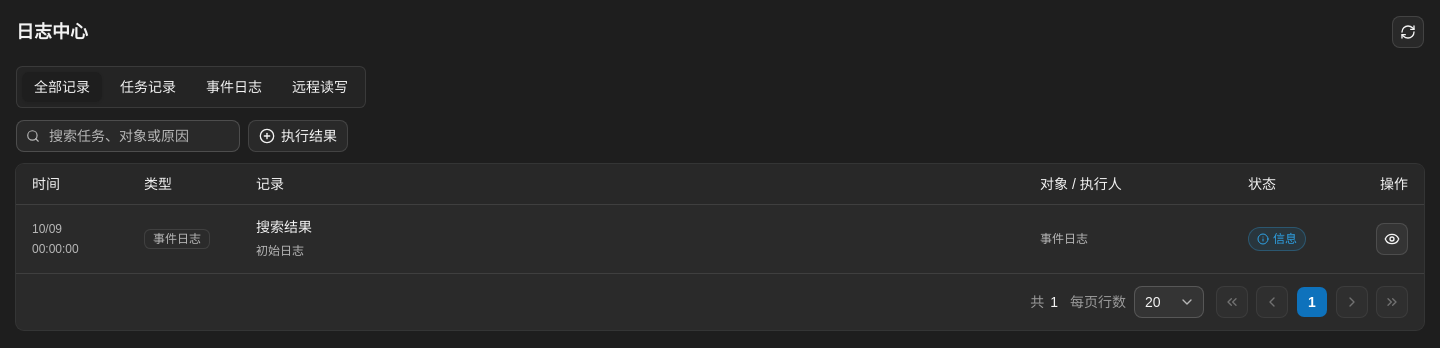
Test: 关键词变化时取消旧请求，迟到结果不能覆盖当前搜索
Check: the text "初始日志" is shown, box [256, 244, 304, 258]
Type "slow" into the field labelled "搜索任务、对象或原因".
click(128, 136); type("slow")  # box [16, 120, 240, 152]
Wait 250 ms
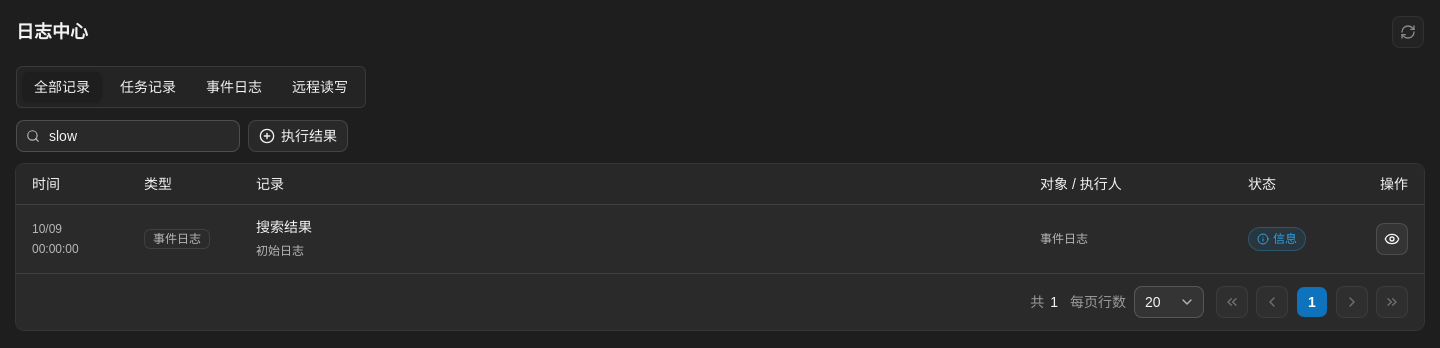
Replace the text in the field named "搜索任务、对象或原因" with "latest" at (128, 136), box [16, 120, 240, 152]
Wait 251 ms
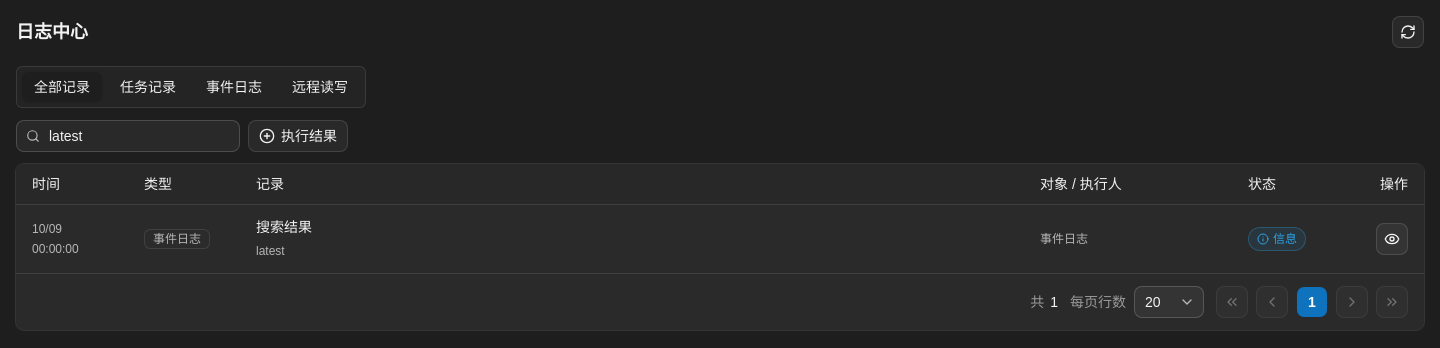
Check: the text "slow" is not shown
Check: the text "latest" is shown, box [256, 244, 285, 258]
